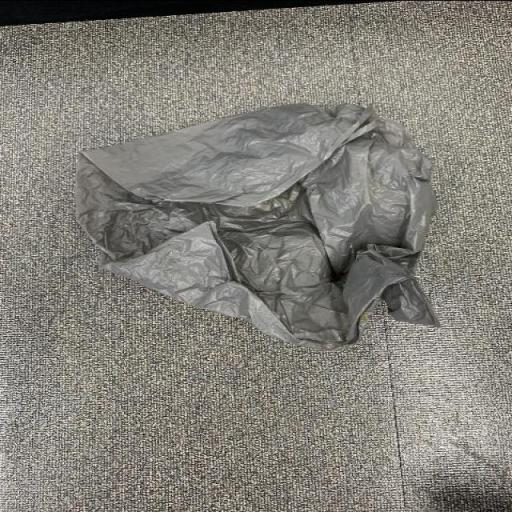plastic-bag: (62, 98, 444, 348)
